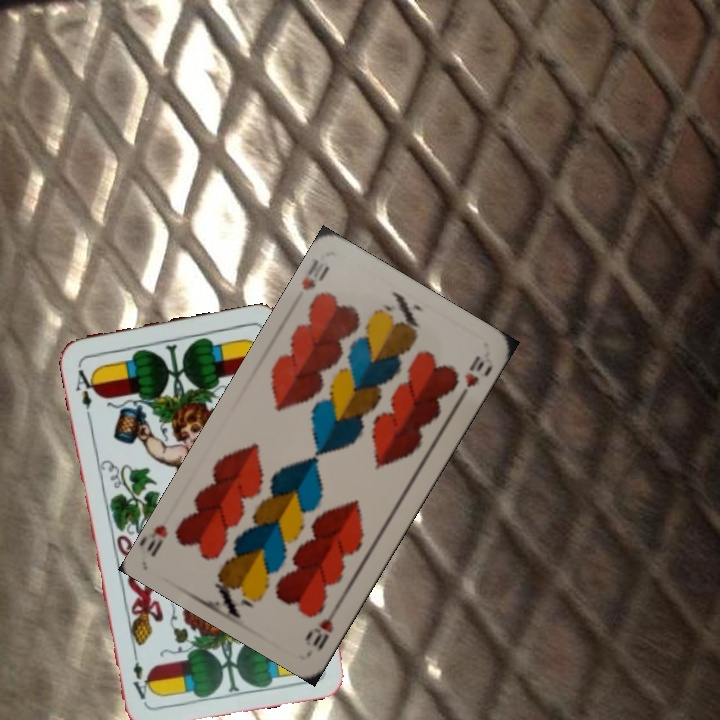EA: (71, 360, 100, 419)
H10: (301, 600, 342, 653), (297, 255, 332, 293)
